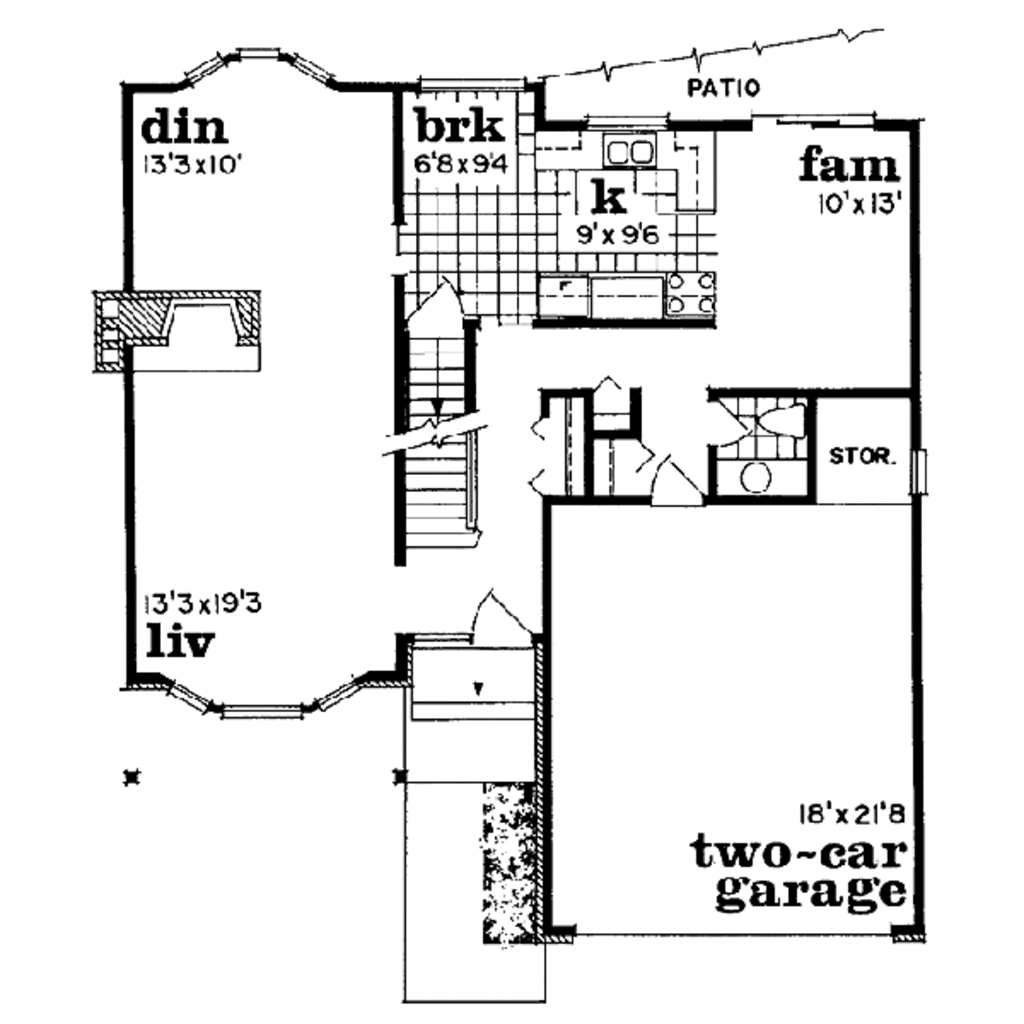door: (399, 271, 484, 334), (471, 583, 538, 662), (636, 457, 710, 512), (705, 394, 751, 448)
large_sink: (759, 398, 822, 454)
small_sink: (722, 451, 795, 497)
stairs: (406, 337, 493, 552)
twin_sink: (597, 127, 668, 173)
window: (184, 43, 342, 96), (213, 697, 306, 725), (166, 666, 213, 717), (307, 670, 362, 708), (909, 441, 935, 501)
